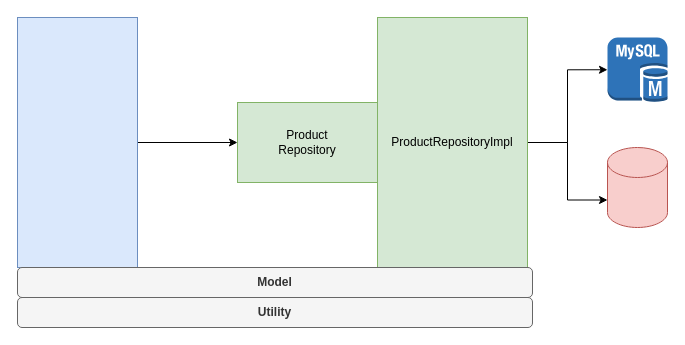
Some shapes in this 685 by 345 pixel diagram are drawn without their labels. The shapes that lost their labels are listed below. From the top down, each one's centre as x and y in pixels, then its label:
At (77,142): "UI Layer".
At (637,187): "Mongodb".
